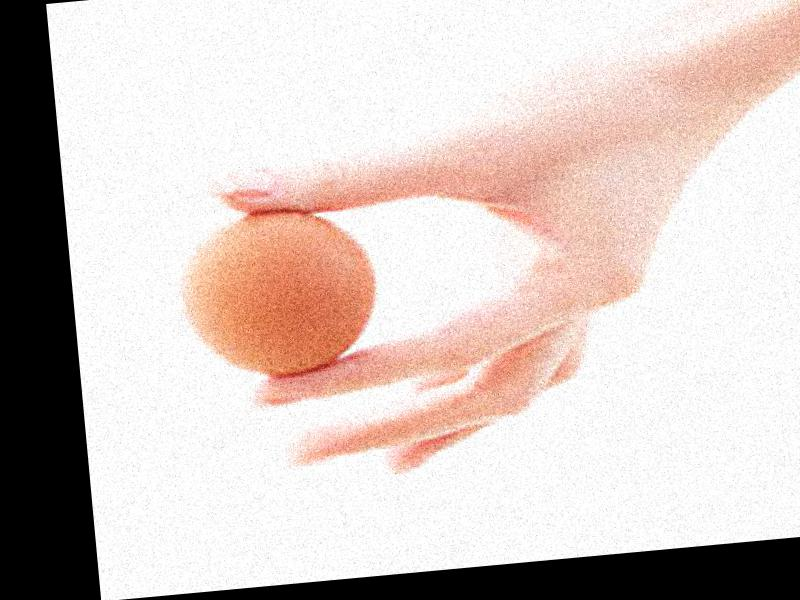Eggs: (176, 200, 379, 385)
